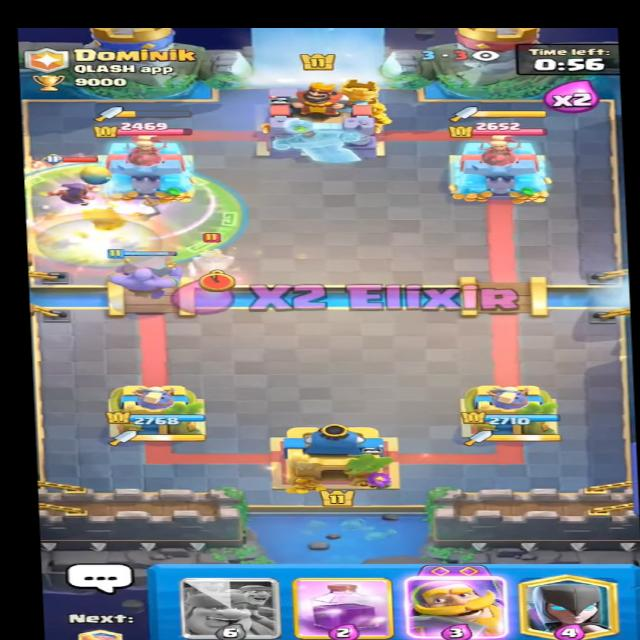Evowizard: (30, 152, 110, 216)
Royalghost: (175, 234, 252, 284)
